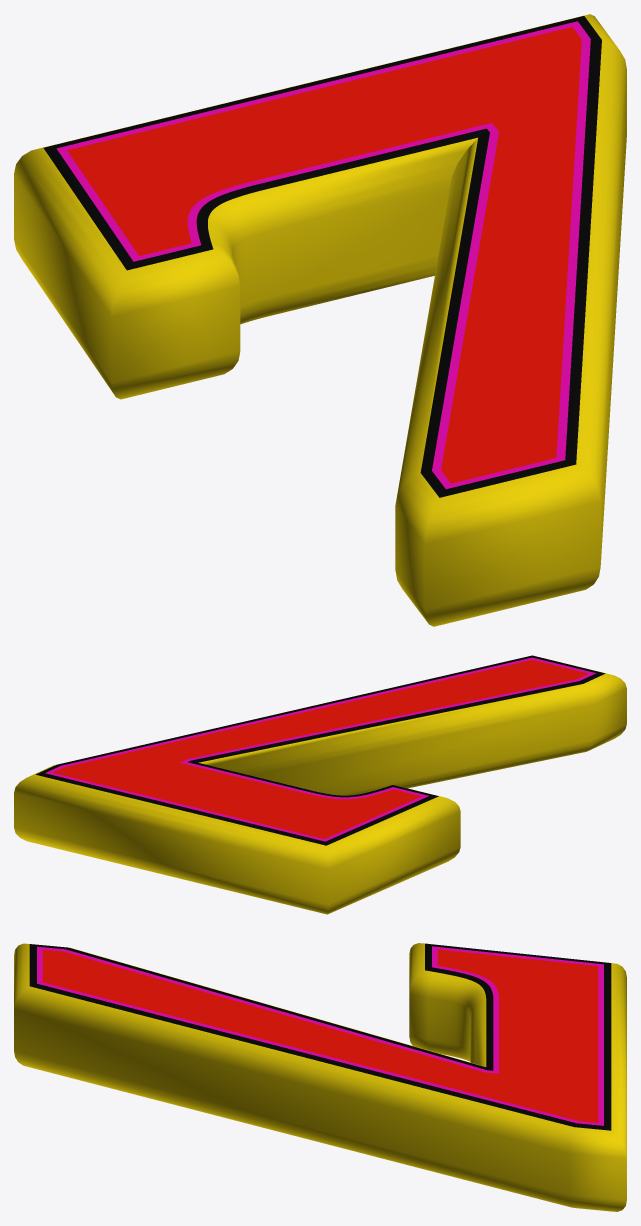
Rendered from Slot_Numbers_Seven.fbx.
The picture shows the model from 3 angles, top to bottom: view 1: azimuth 30°, elevation 25°; view 2: azimuth 150°, elevation 25°; view 3: azimuth 270°, elevation 25°; orthographic projection. The views are drawn at different scales.
Parts seen in each view (by area): view 1: Seven; view 2: Seven; view 3: Seven.
Boxes of the visible parts, x1=… form: Seven: x1=14, y1=14, x2=626, y2=626; Seven: x1=14, y1=655, x2=626, y2=914; Seven: x1=14, y1=943, x2=626, y2=1211.
Bounding box in the file's own units: 42.25 × 8 × 53.64.
